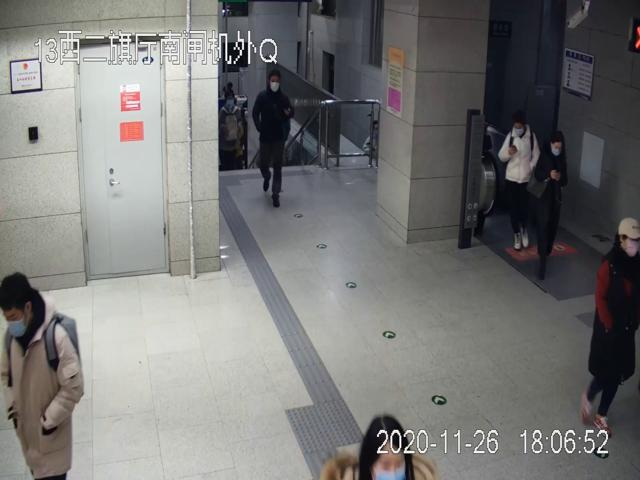person: (1, 271, 83, 479), (252, 69, 293, 209), (498, 115, 539, 248), (535, 129, 569, 276)
